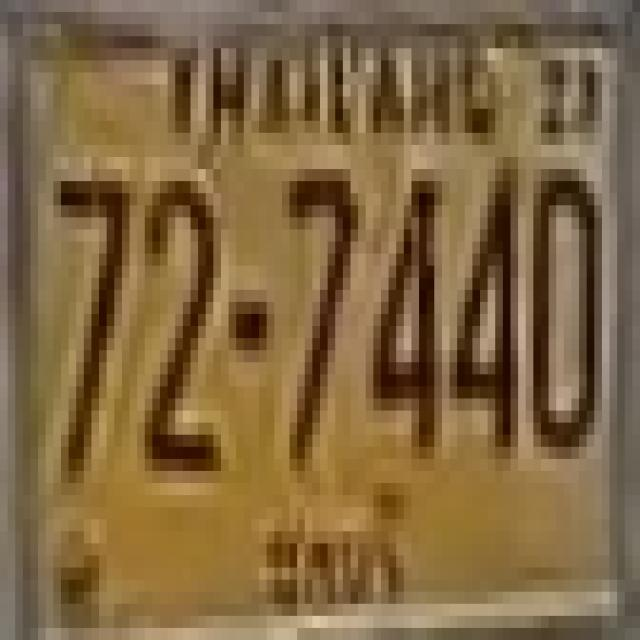0: (526, 163, 594, 441)
2: (137, 175, 213, 465)
4: (446, 157, 514, 447), (370, 169, 438, 447)
7: (54, 175, 130, 477), (282, 169, 358, 459), (54, 175, 130, 380)
CMI: (260, 482, 412, 623)
